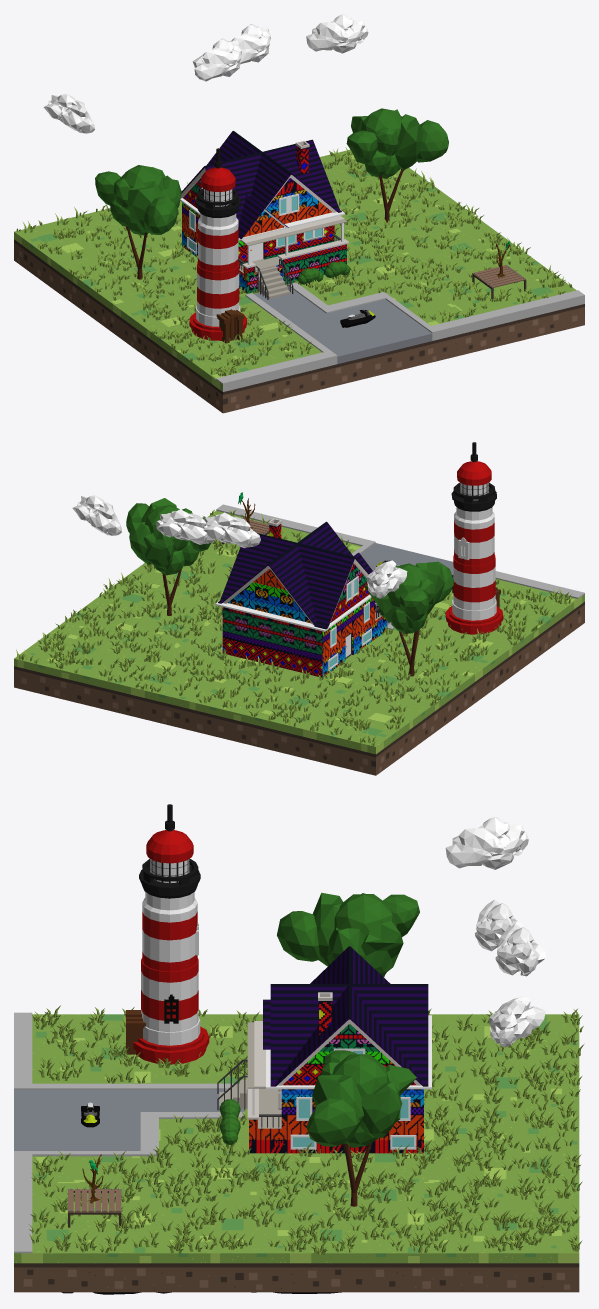
The picture shows the model from 3 angles, top to bottom: view 1: azimuth 30°, elevation 25°; view 2: azimuth 150°, elevation 25°; view 3: azimuth 270°, elevation 25°; orthographic projection. The views are drawn at different scales.
Visible parts, largest first — view 1: Cube.006, Circle.012_Grass_0.192, Cube.966, OBJRANDOM_LIGHTHOUSE, Cube.007, tree, tree.001, Cube.009; view 2: Cube.006, Cube.966, Circle.012_Grass_0.192, OBJRANDOM_LIGHTHOUSE, Cube.007, tree.001, tree; view 3: Cube.006, Circle.012_Grass_0.192, Cube.966, OBJRANDOM_LIGHTHOUSE, tree, Cube.007, tree.001, Cube.009.
Part boxes in pixels (box(x1,y1,x2,y2)): Cube.006: box(14, 149, 584, 413); Circle.012_Grass_0.192: box(16, 147, 572, 376); Cube.966: box(180, 131, 349, 299); OBJRANDOM_LIGHTHOUSE: box(189, 148, 246, 343); Cube.007: box(43, 14, 368, 133); tree: box(346, 108, 448, 222); tree.001: box(95, 165, 181, 279); Cube.009: box(472, 265, 526, 298); Cube.006: box(14, 504, 584, 775); Cube.966: box(215, 518, 387, 677); Circle.012_Grass_0.192: box(16, 509, 572, 746); OBJRANDOM_LIGHTHOUSE: box(445, 442, 503, 634); Cube.007: box(72, 495, 407, 598); tree.001: box(364, 561, 453, 676); tree: box(126, 498, 210, 615); Cube.006: box(14, 1012, 579, 1292); Circle.012_Grass_0.192: box(29, 1005, 584, 1254); Cube.966: box(217, 946, 431, 1153); OBJRANDOM_LIGHTHOUSE: box(126, 804, 209, 1064); tree: box(306, 1050, 416, 1206); Cube.007: box(445, 817, 545, 1047); tree.001: box(277, 892, 419, 977); Cube.009: box(68, 1188, 121, 1227).
Size of the model in its own units: 4071 by 2261 by 4040.
Materials: 39 (7 with a texture image).
